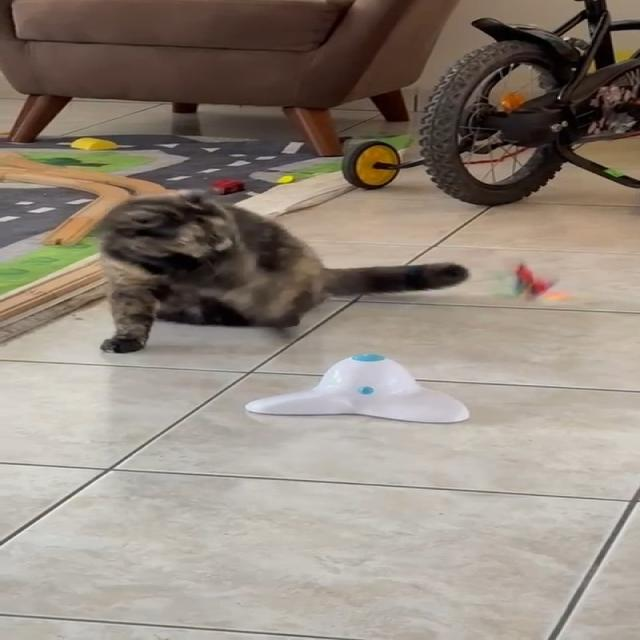authorized: (92, 187, 469, 354)
